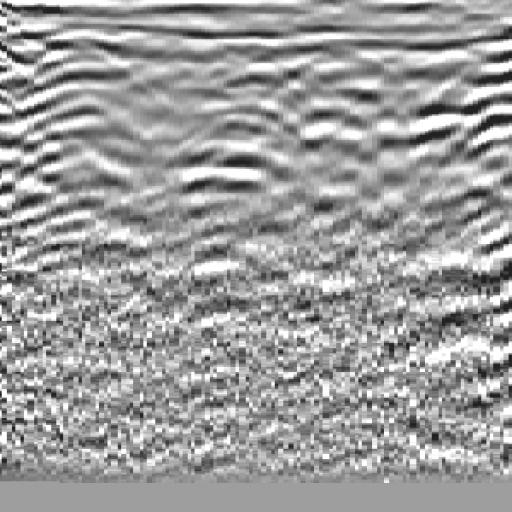metalic: (133, 27, 347, 300)
